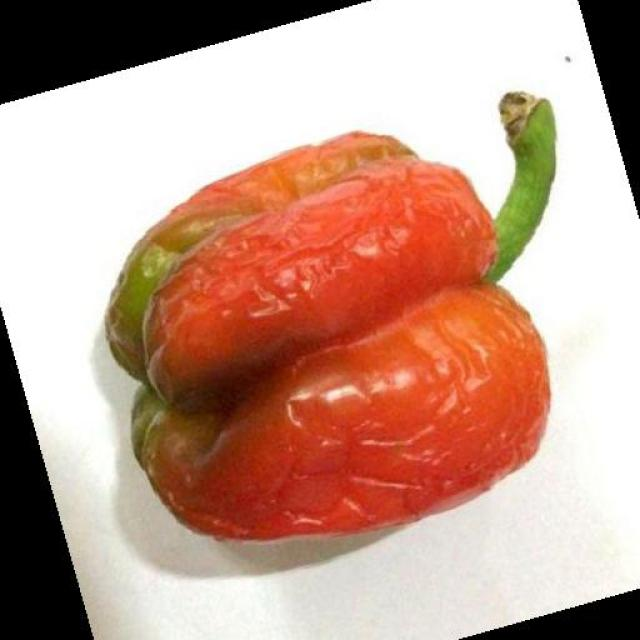Stale_Capsicum: (68, 114, 564, 521)
